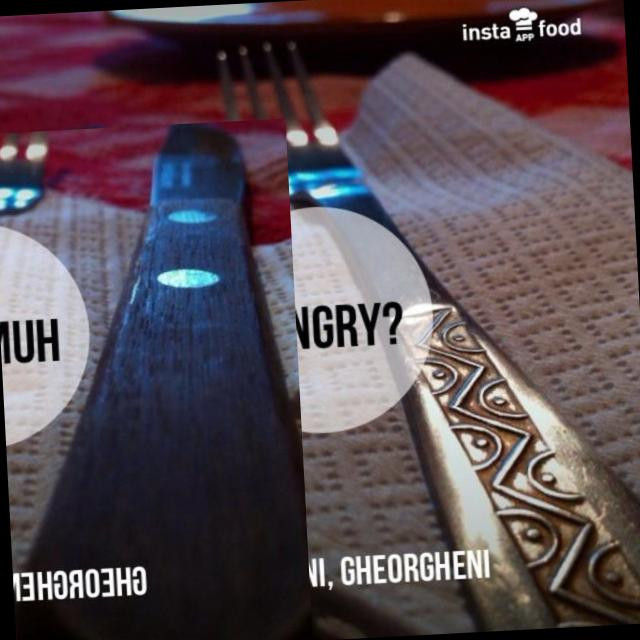Knife: (16, 123, 311, 640)
